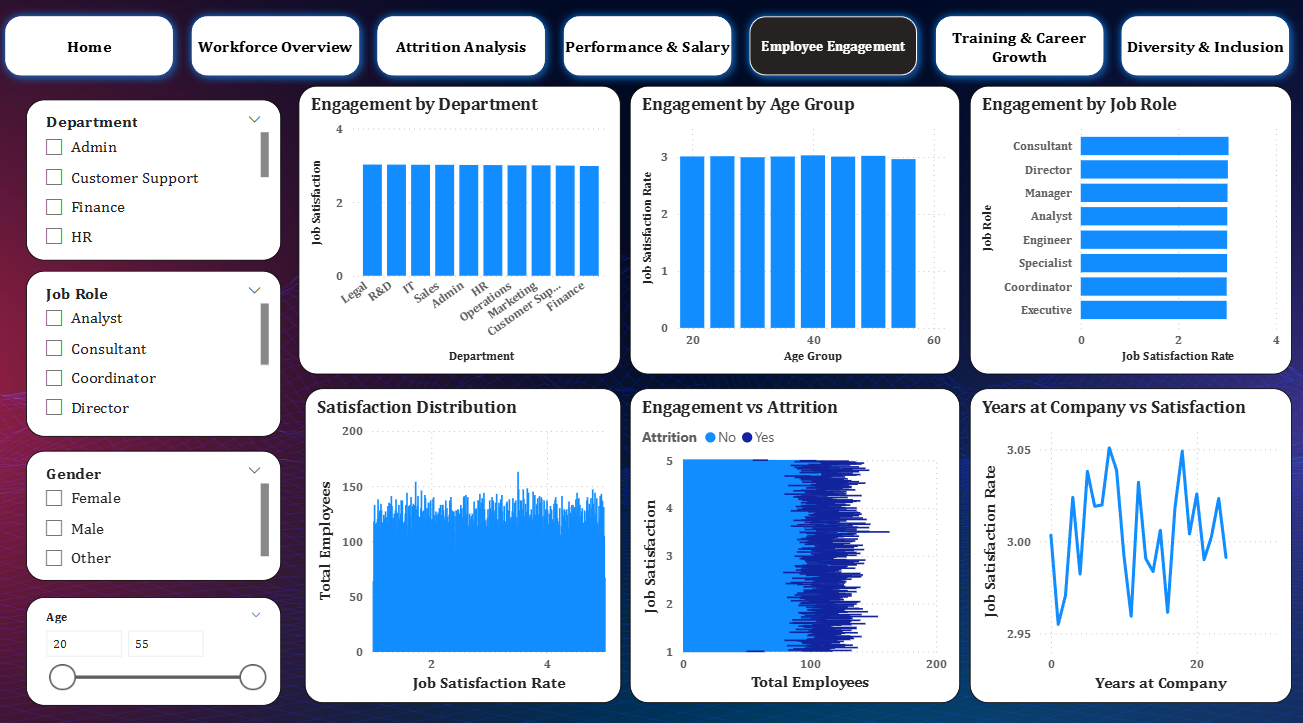

What the dashboard file says about the page in this screenshot:
{"tool":"powerbi","page":{"name":"Employee Engagement","canvas":[1280,720],"ordinal":4},"visuals":[{"type":"image","box":[0,0,1280.3,720.2],"z":0},{"type":"pageNavigator","box":[0,10,1280.1,76.7],"z":1000},{"type":"clusteredColumnChart","title":"Engagement by Department","fields":{"Category":["HR_Data.Department"],"Y":["HR_Data.Avg_Job_Satisfaction"]},"box":[295.9,86.8,315.5,282.5],"z":2000},{"type":"columnChart","title":"Satisfaction Distribution","fields":{"Category":["HR_Data.Job_Satisfaction"],"Y":["CountNonNull(HR_Data.Employee_ID)"]},"box":[302,382.7,309.4,308.2],"z":3000},{"type":"barChart","title":"Engagement vs Attrition","fields":{"Category":["HR_Data.Job_Satisfaction"],"Y":["CountNonNull(HR_Data.Employee_ID)"],"Series":["HR_Data.Attrition"]},"box":[620,382.7,322.8,308.2],"z":4000},{"type":"slicer","fields":{"Values":["HR_Data.Department"]},"box":[29.3,100.3,249.5,157.7],"z":5000},{"type":"slicer","fields":{"Values":["HR_Data.Job_Role"]},"box":[29.3,267.8,249.5,162.6],"z":6000},{"type":"slicer","fields":{"Values":["HR_Data.Gender"]},"box":[29.3,443.9,249.5,127.2],"z":7000},{"type":"slicer","fields":{"Values":["HR_Data.Age (bins)"]},"box":[29.3,587,249.5,106.4],"z":8000},{"type":"barChart","title":"Engagement by Job Role","fields":{"Category":["HR_Data.Job_Role"],"Y":["HR_Data.Avg_Job_Satisfaction"]},"box":[952.6,86.8,315.5,282.5],"z":9000},{"type":"lineChart","title":"Years at Company vs Satisfaction","fields":{"Category":["HR_Data.Years_at_Company"],"Y":["HR_Data.Avg_Job_Satisfaction"]},"box":[952.6,382.7,315.5,308.2],"z":10000},{"type":"columnChart","title":"Engagement by Age Group","fields":{"Y":["HR_Data.Avg_Job_Satisfaction"],"Category":["HR_Data.Age (bins)"]},"box":[620,86.8,322.8,282.5],"z":11000}]}

Visuals, with their boxes in screenshot pixels (x1, y1, x2, y2), scaled from the page's 1280x720 canvas onto the 1303x723 screenshot:
image: <bbox>0, 0, 1302, 722</bbox>
pageNavigator: <bbox>0, 10, 1302, 87</bbox>
"Engagement by Department" clusteredColumnChart: <bbox>301, 87, 622, 371</bbox>
"Satisfaction Distribution" columnChart: <bbox>307, 384, 622, 694</bbox>
"Engagement vs Attrition" barChart: <bbox>631, 384, 960, 694</bbox>
slicer - HR_Data.Department: <bbox>30, 101, 284, 259</bbox>
slicer - HR_Data.Job_Role: <bbox>30, 269, 284, 432</bbox>
slicer - HR_Data.Gender: <bbox>30, 446, 284, 573</bbox>
slicer - HR_Data.Age (bins): <bbox>30, 589, 284, 696</bbox>
"Engagement by Job Role" barChart: <bbox>970, 87, 1291, 371</bbox>
"Years at Company vs Satisfaction" lineChart: <bbox>970, 384, 1291, 694</bbox>
"Engagement by Age Group" columnChart: <bbox>631, 87, 960, 371</bbox>
